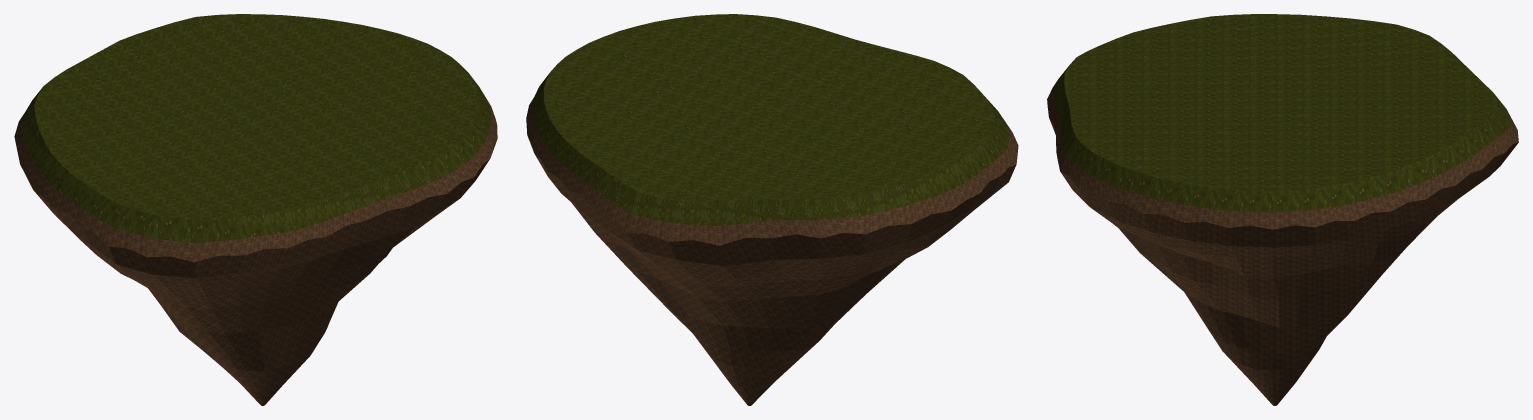
The model's file is chunk1-flat.fbx.
The picture shows the model from 3 angles, left to right: view 1: azimuth 30°, elevation 25°; view 2: azimuth 150°, elevation 25°; view 3: azimuth 270°, elevation 25°; orthographic projection.
Parts seen in each view (by area): view 1: Cylinder; view 2: Cylinder; view 3: Cylinder.
Part boxes in pixels (bbox=[...]): Cylinder: bbox=[14, 14, 497, 405]; Cylinder: bbox=[526, 14, 1018, 405]; Cylinder: bbox=[1047, 14, 1518, 405].
Size of the model in its own units: 765 by 525 by 734.
